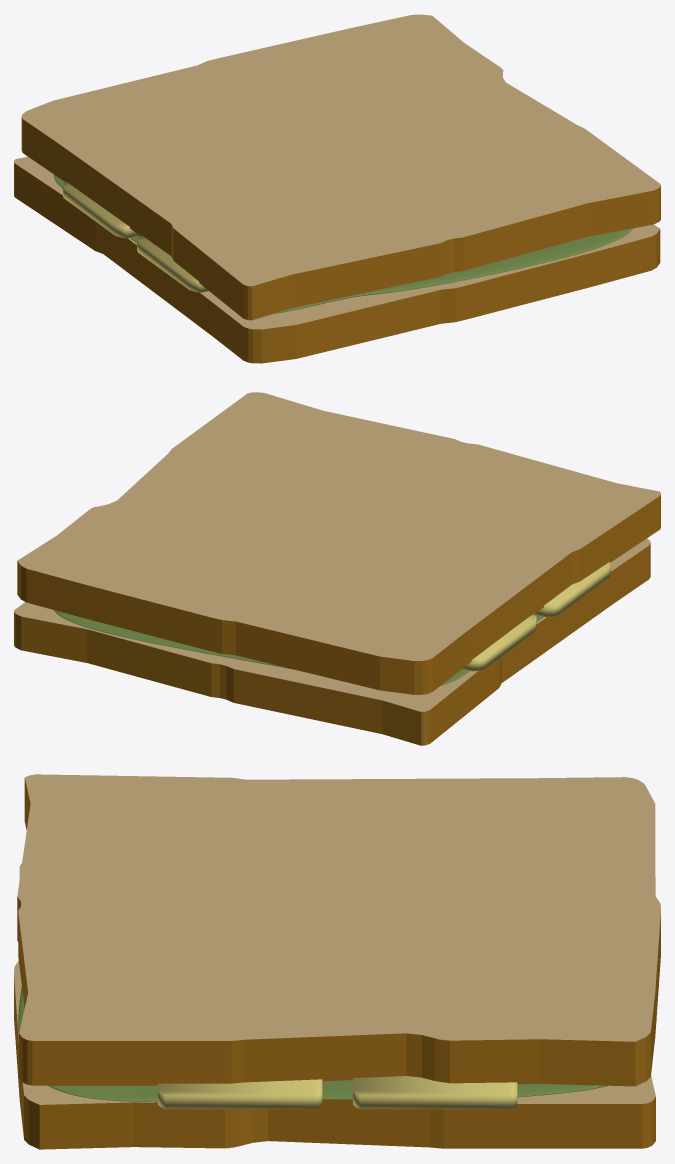
File: completehoneyoat.fbx
The picture shows the model from 3 angles, top to bottom: view 1: azimuth 30°, elevation 25°; view 2: azimuth 150°, elevation 25°; view 3: azimuth 270°, elevation 25°; orthographic projection. The views are drawn at different scales.
Visible parts, largest first — view 1: top bread, bottom bread, kaya, BUTTER.001, BUTTER; view 2: top bread, bottom bread, kaya, BUTTER.001, BUTTER; view 3: top bread, bottom bread, BUTTER.001, BUTTER, kaya.
Part boxes in pixels (x1,y1,x2,y2): top bread: [21, 14, 660, 320]; bottom bread: [14, 157, 660, 363]; kaya: [54, 174, 632, 313]; BUTTER.001: [63, 181, 139, 238]; BUTTER: [137, 235, 208, 292]; top bread: [17, 392, 660, 694]; bottom bread: [14, 538, 650, 745]; kaya: [54, 610, 543, 686]; BUTTER.001: [462, 614, 536, 671]; BUTTER: [535, 562, 610, 617]; top bread: [17, 774, 660, 1086]; bottom bread: [14, 863, 656, 1149]; BUTTER.001: [353, 1076, 517, 1109]; BUTTER: [158, 1079, 322, 1109]; kaya: [18, 986, 607, 1102].
Bounding box in the file's own units: 207 × 36.98 × 203.
Materials: 4 (1 with a texture image).
